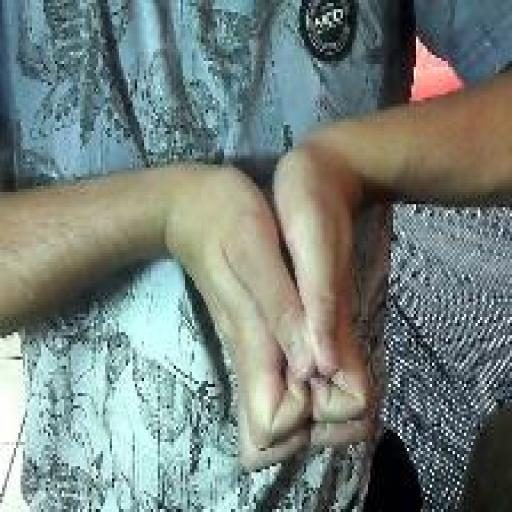I -boar-: (171, 145, 375, 474)
